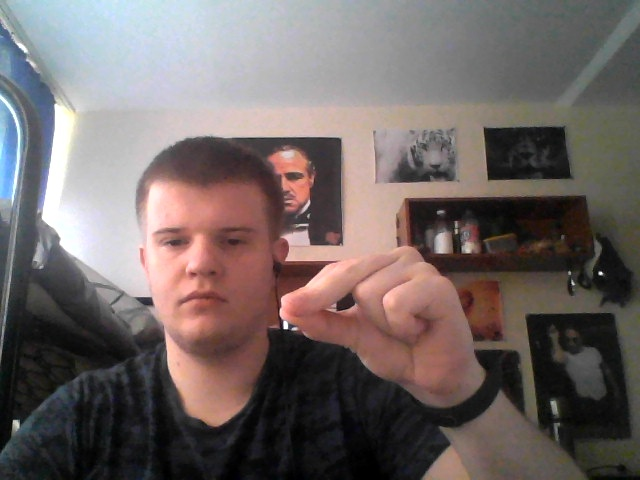no: (273, 242, 477, 391)
